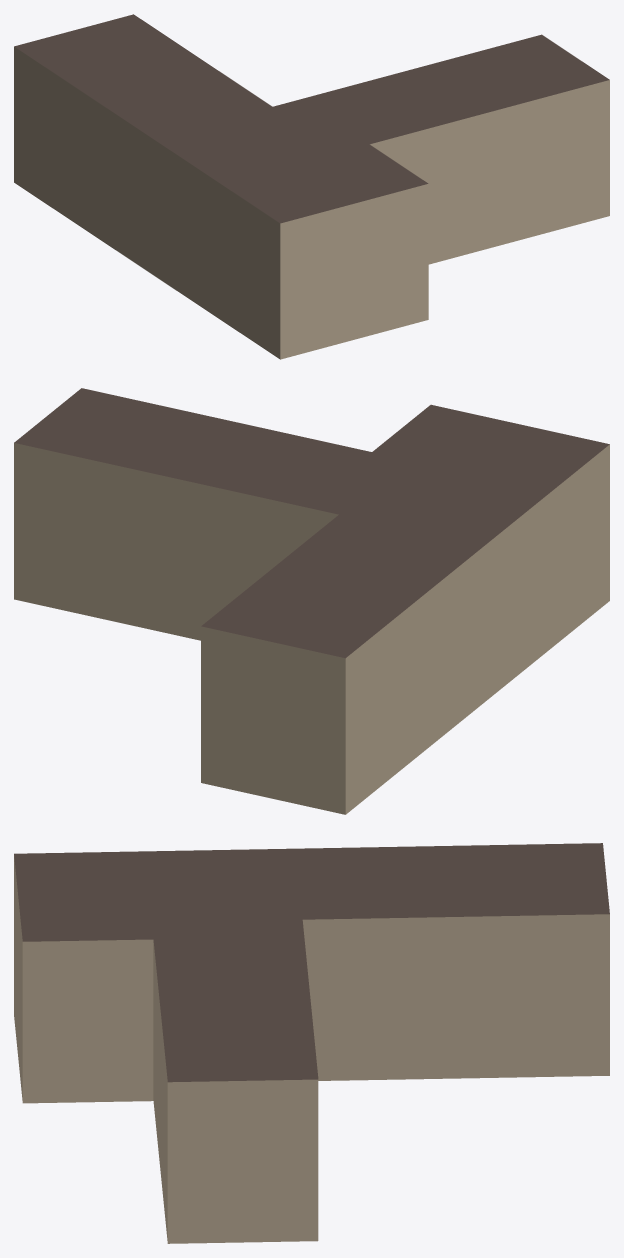
The picture shows the model from 3 angles, top to bottom: view 1: azimuth 30°, elevation 25°; view 2: azimuth 150°, elevation 25°; view 3: azimuth 270°, elevation 25°; orthographic projection. The views are drawn at different scales.
Parts seen in each view (by area): view 1: HP-w1200721933; view 2: HP-w1200721933; view 3: HP-w1200721933.
Boxes of the visible parts, left/top/right/bottom form: HP-w1200721933: left=14, top=14, right=609, bottom=359; HP-w1200721933: left=14, top=388, right=609, bottom=814; HP-w1200721933: left=14, top=843, right=609, bottom=1243.
Size of the model in its own units: 28.56 by 9 by 30.08.
